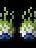eye: (17, 7, 36, 42), (0, 7, 16, 42)
